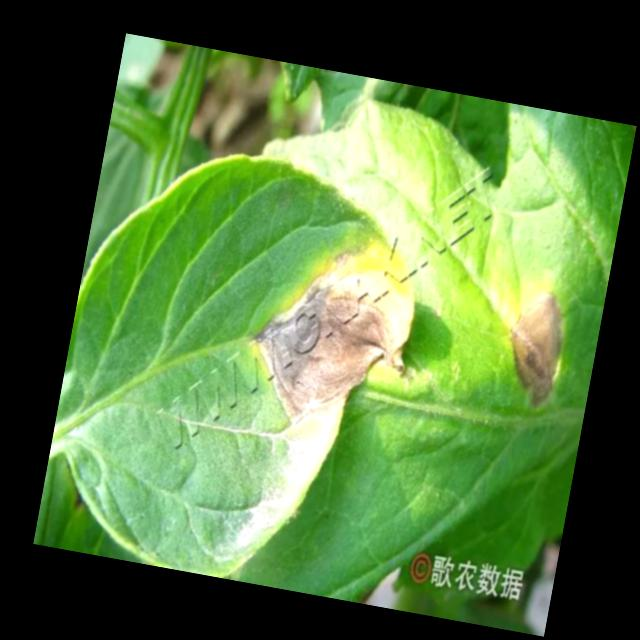Early_blight: (241, 230, 423, 438), (495, 283, 574, 414)
